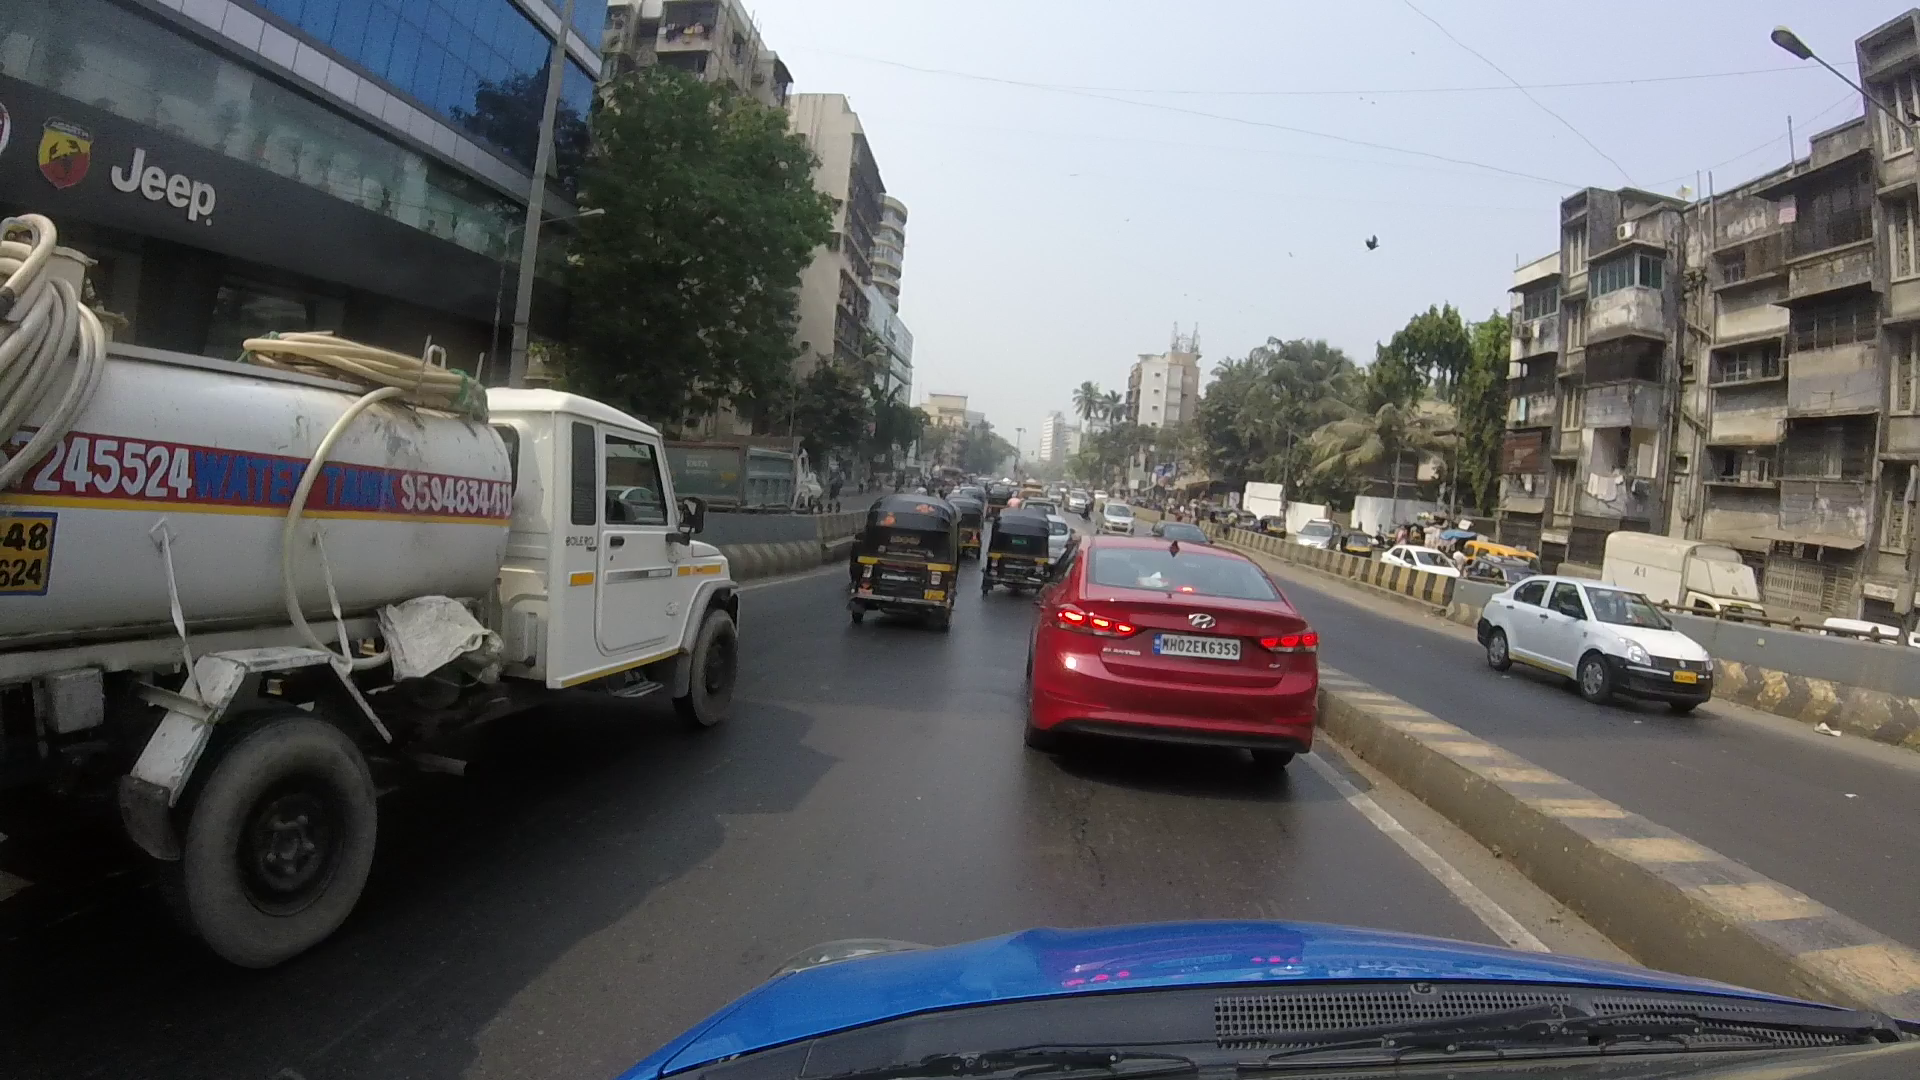car: (1019, 527, 1325, 769), (1476, 568, 1725, 713)
rickshaw: (855, 492, 949, 618), (981, 510, 1052, 597)
truck: (5, 349, 756, 982)
